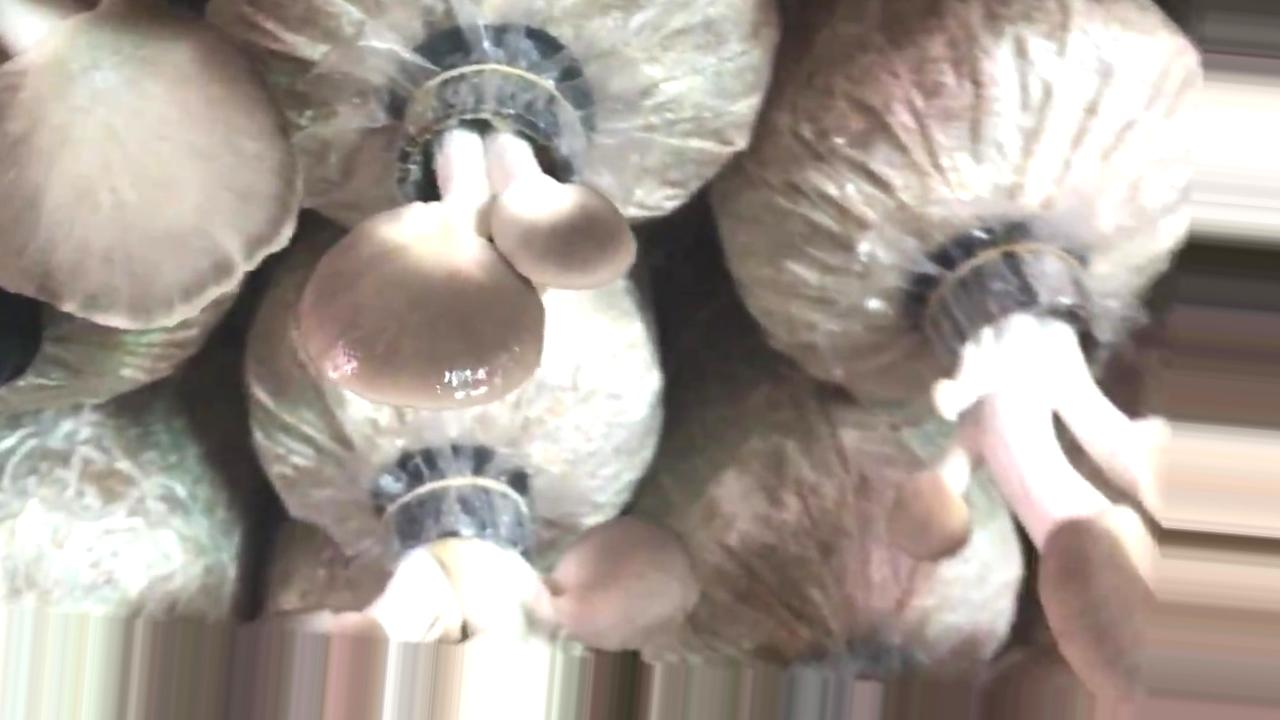nam: (885, 243, 1277, 720), (295, 60, 642, 409), (2, 1, 309, 342), (231, 485, 705, 637)
